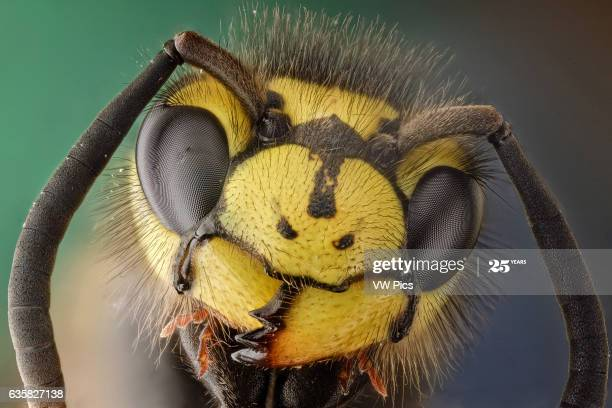chax: (63, 24, 502, 369)
